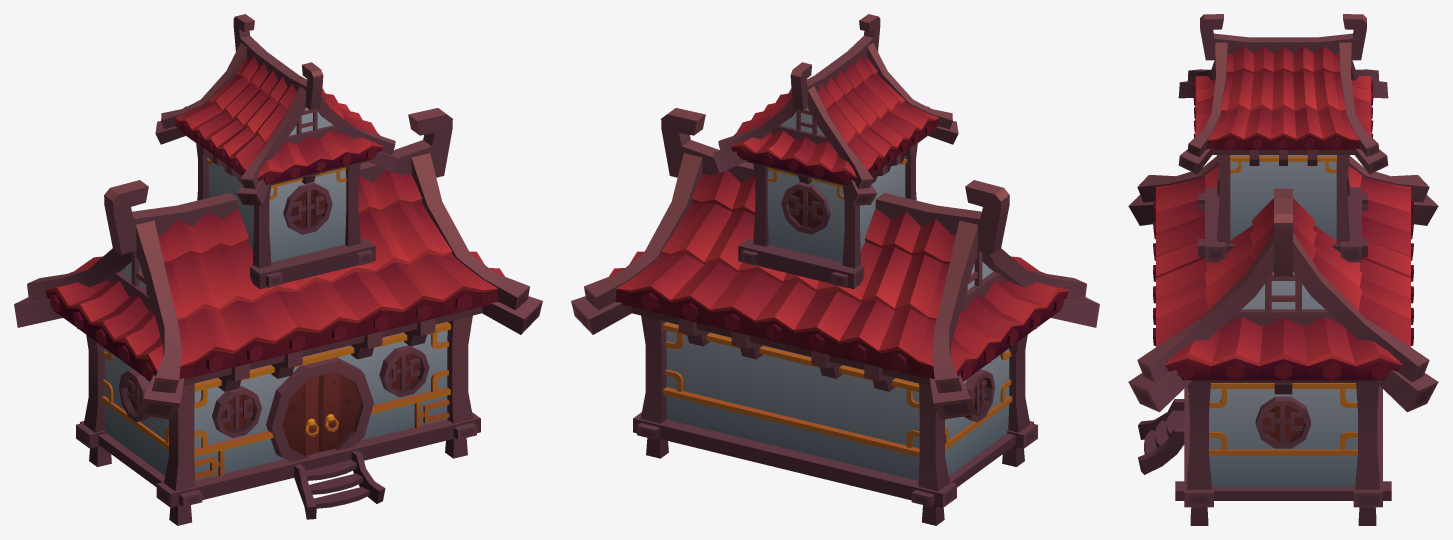
The model's file is building_2.glb.
The picture shows the model from 3 angles, left to right: view 1: azimuth 30°, elevation 25°; view 2: azimuth 150°, elevation 25°; view 3: azimuth 270°, elevation 25°; orthographic projection. The views are drawn at different scales.
Visible parts, largest first — view 1: building_2; view 2: building_2; view 3: building_2.
Part boxes in pixels (<box>): building_2: <box>14,14,542,525</box>; building_2: <box>571,14,1099,525</box>; building_2: <box>1128,14,1438,525</box>.
Bounding box in the file's own units: 4.73 × 4.69 × 3.01.
1 material, 1 textured.
